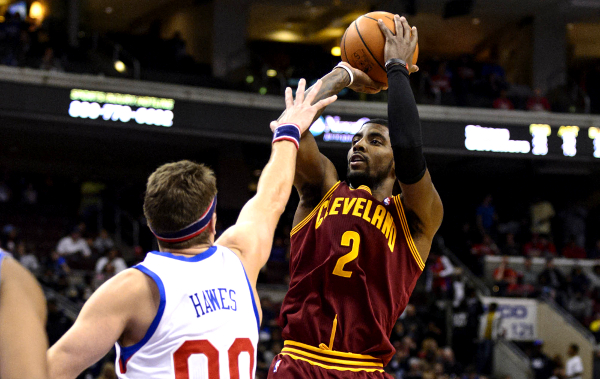Basketball: (338, 9, 421, 88)
